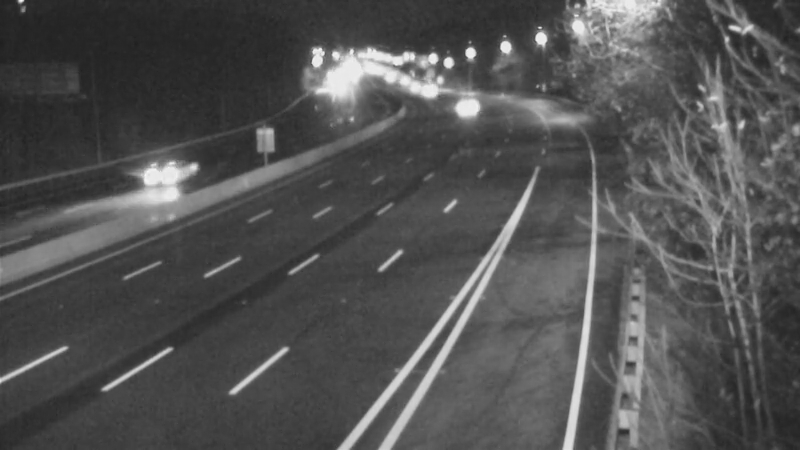vehicle: (122, 134, 202, 214), (390, 61, 440, 111), (401, 65, 451, 115), (437, 79, 487, 129)
